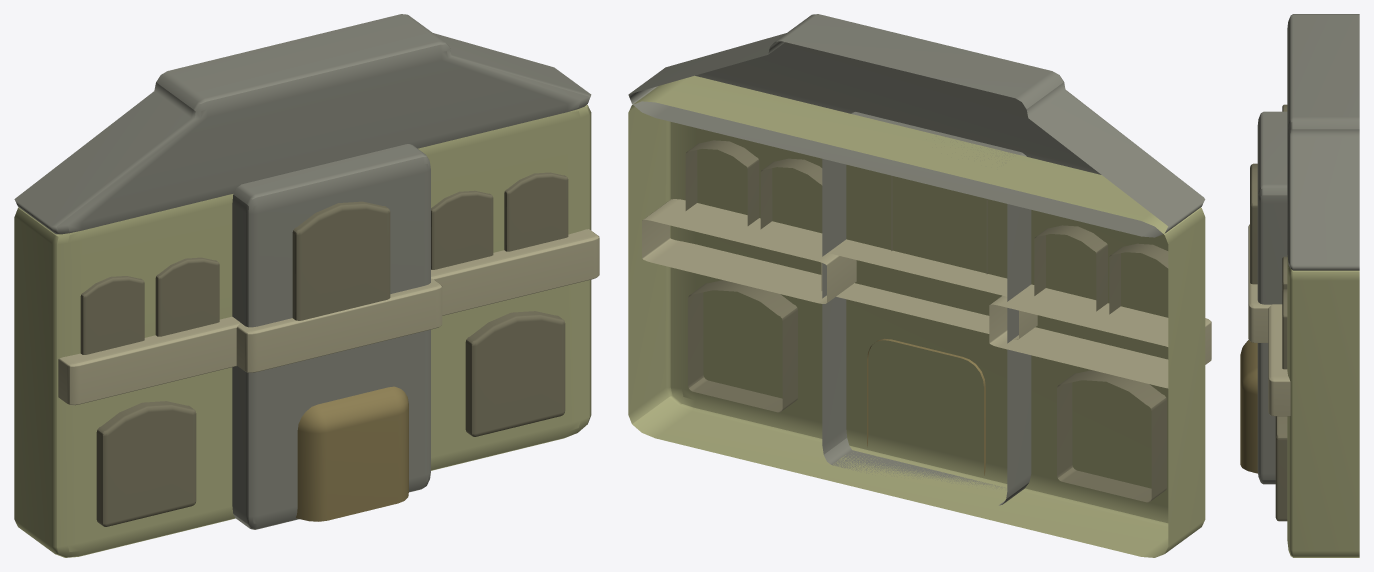
The picture shows the model from 3 angles, left to right: view 1: azimuth 30°, elevation 25°; view 2: azimuth 150°, elevation 25°; view 3: azimuth 270°, elevation 25°; orthographic projection. The views are drawn at different scales.
Visible parts, largest first — view 1: polySurface32, polySurface21, polySurface27, polySurface25, polySurface78; view 2: polySurface21, polySurface32, polySurface25, polySurface27; view 3: polySurface32, polySurface21, polySurface25, polySurface27, polySurface78.
Boxes of the visible parts, x1,y1,x2,y2 form: polySurface32: (14,14,591,529); polySurface21: (14,105,591,557); polySurface27: (80,172,568,526); polySurface25: (58,229,599,405); polySurface78: (296,386,408,521); polySurface21: (628,75,1205,557); polySurface32: (628,14,1205,505); polySurface25: (642,199,1211,388); polySurface27: (685,140,1168,502); polySurface32: (1257,14,1359,484); polySurface21: (1287,255,1359,557); polySurface25: (1248,224,1290,416); polySurface27: (1250,104,1287,521); polySurface78: (1240,340,1257,473).
Bounding box in the file's own units: 11.48 × 8.69 × 2.46.
